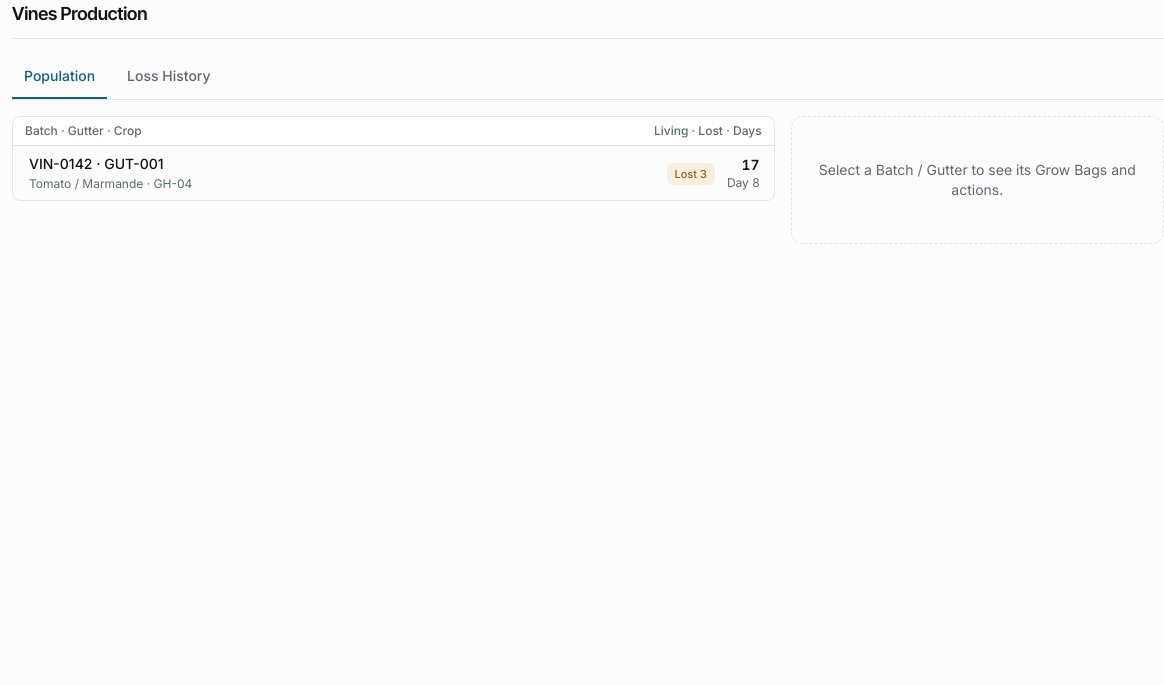
VinesProductionPage › allows selecting specific Grow Cube(s) in a multi-plant Grow Bag (no auto-select)
Expected: the text "VIN-0142 · GUT-001" is shown, top-left (29, 154), bottom-right (164, 174)
Click the button "VIN-0142 · GUT-001 Tomato / Marmande · GH-04": coordinates (96, 163) top-left (29, 154), bottom-right (654, 192)
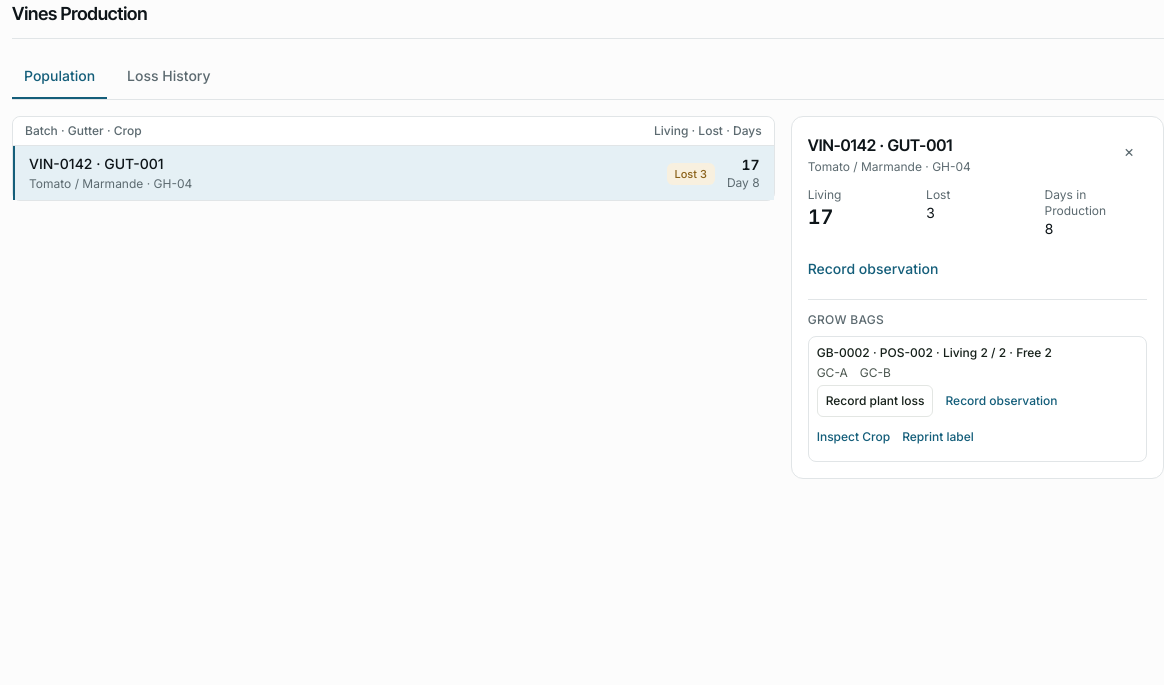
Expected: the text "GB-0002 · POS-002 · Living 2 / 2 · Free 2" is shown, top-left (817, 344), bottom-right (1052, 360)
Click the button "Record plant loss": coordinates (875, 400) top-left (817, 384), bottom-right (934, 416)
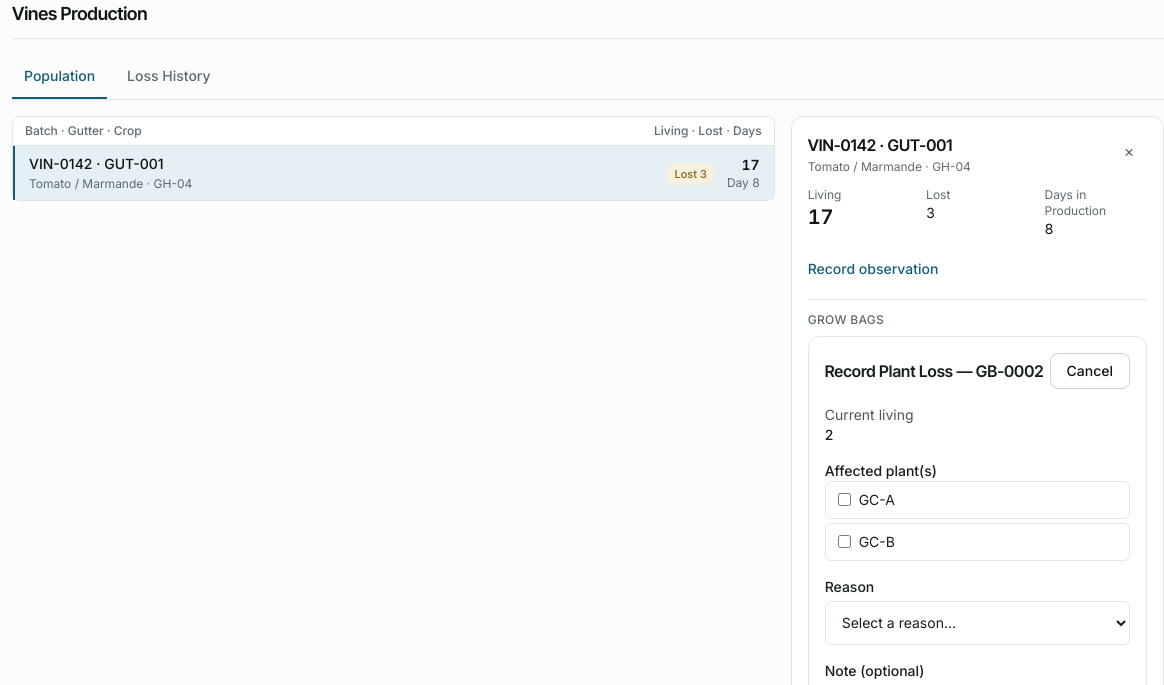
Expected: the heading "Record Plant Loss — GB-0002" is shown, top-left (825, 358), bottom-right (1044, 382)
Expected: the checkbox labelled "GC-A" is not checked
Expected: the checkbox labelled "GC-B" is not checked, top-left (838, 535), bottom-right (851, 548)
Click the checkbox labelled "GC-A": coordinates (844, 500) top-left (838, 493), bottom-right (851, 506)
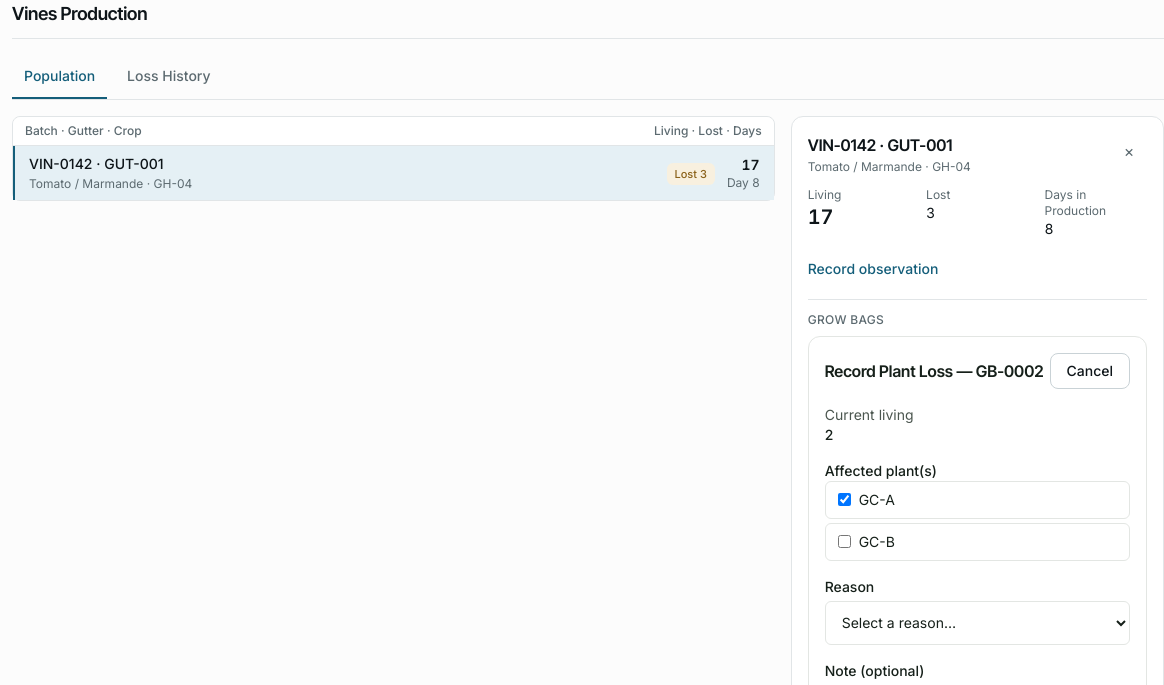
Select "Dead" in the dropdown labelled "Reason": coordinates (977, 622) top-left (825, 600), bottom-right (1130, 644)
(page scrolled)
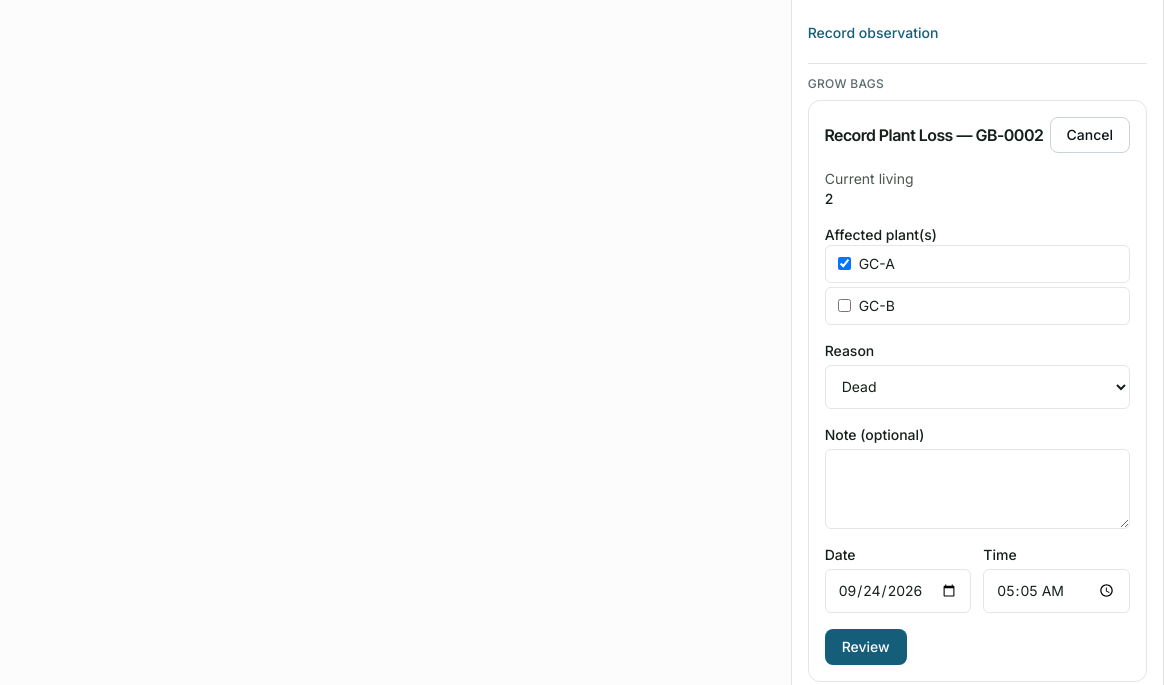
Click the button "Review": coordinates (866, 646) top-left (825, 628), bottom-right (907, 664)
(page scrolled)
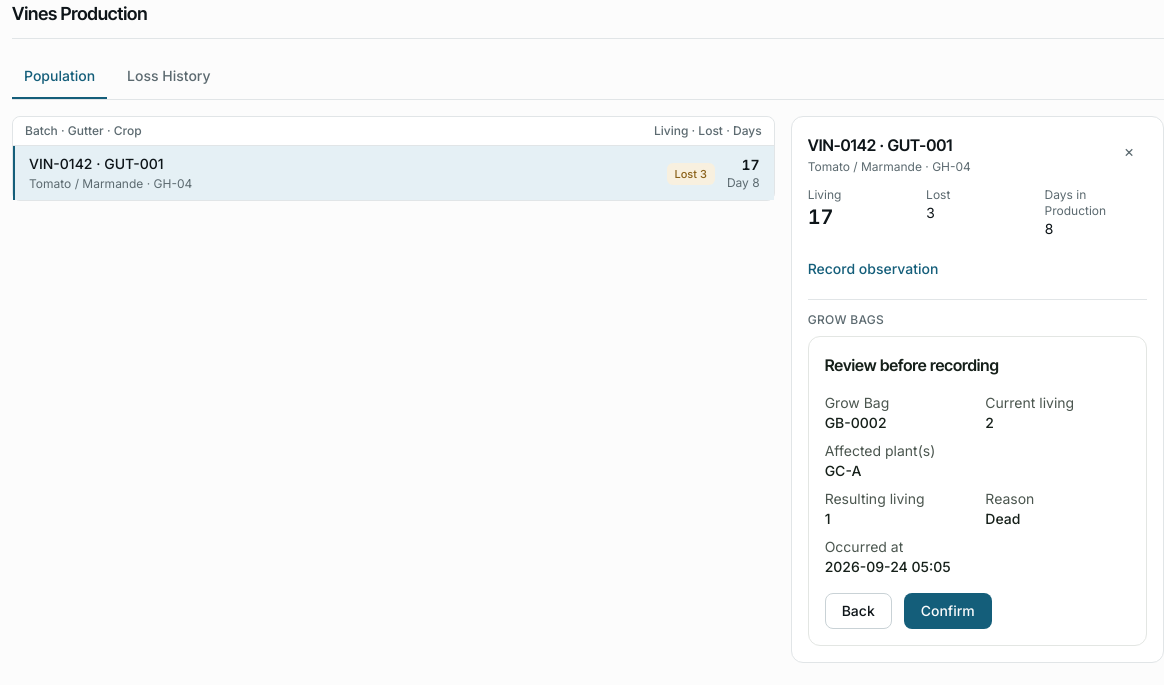
Expected: the text "GC-A" is shown, top-left (825, 462), bottom-right (861, 478)
Expected: the heading "Review before recording" is shown, top-left (825, 354), bottom-right (999, 374)
Expected: the text "Affected plant(s)" no longer shows "GC-B"
